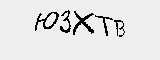В: (114, 17, 127, 39)
З: (56, 7, 76, 33)
Т: (94, 12, 114, 37)
Х: (68, 7, 96, 35)
Ю: (31, 10, 60, 32)
